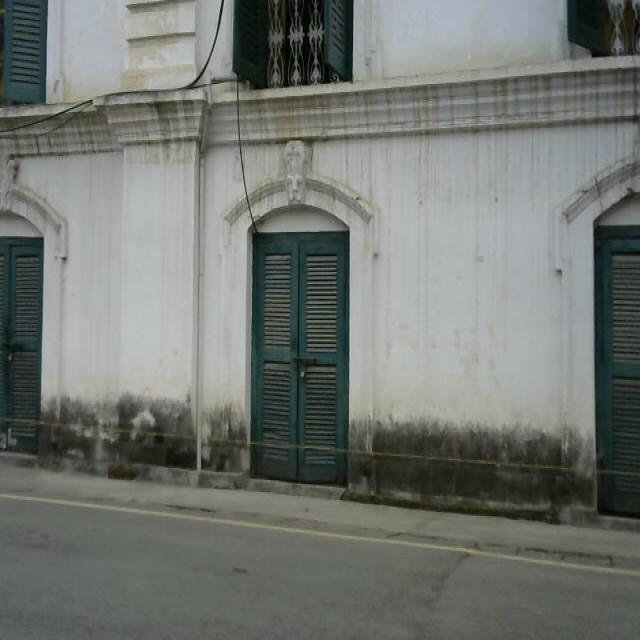Buildings: (0, 0, 640, 541)
Road: (0, 490, 640, 640)
